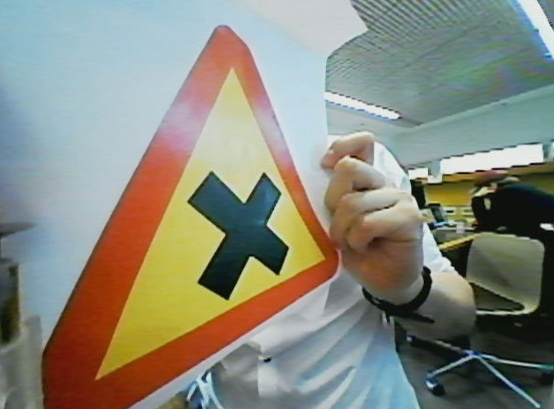junction: (15, 24, 336, 409)
